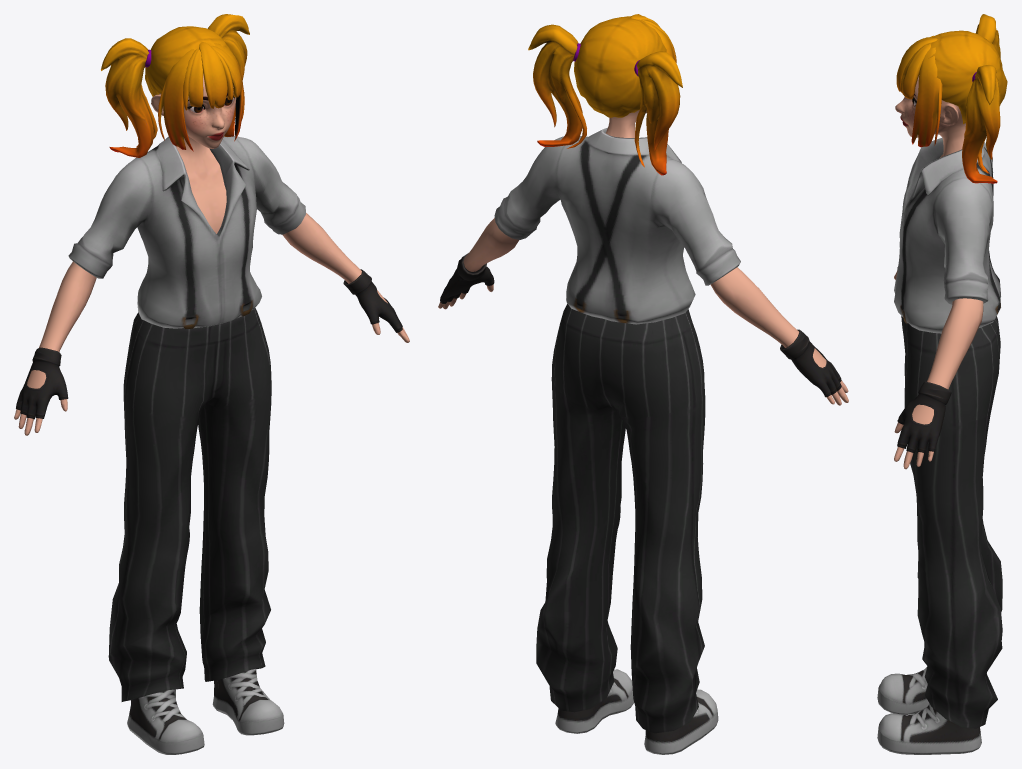
The model's file is StaffMondy_Mesh.obj.
The picture shows the model from 3 angles, left to right: view 1: azimuth 30°, elevation 25°; view 2: azimuth 150°, elevation 25°; view 3: azimuth 270°, elevation 25°; orthographic projection. The views are drawn at different scales.
Visible parts, largest first — view 1: StaffMondy_Mesh_0; view 2: StaffMondy_Mesh_0; view 3: StaffMondy_Mesh_0.
Part boxes in pixels (x1=…): StaffMondy_Mesh_0: x1=14, y1=14, x2=409, y2=754; StaffMondy_Mesh_0: x1=438, y1=14, x2=848, y2=754; StaffMondy_Mesh_0: x1=877, y1=14, x2=1007, y2=754.
Bounding box in the file's own units: 1.06 × 1.81 × 0.3082.
1 material, 1 textured.
